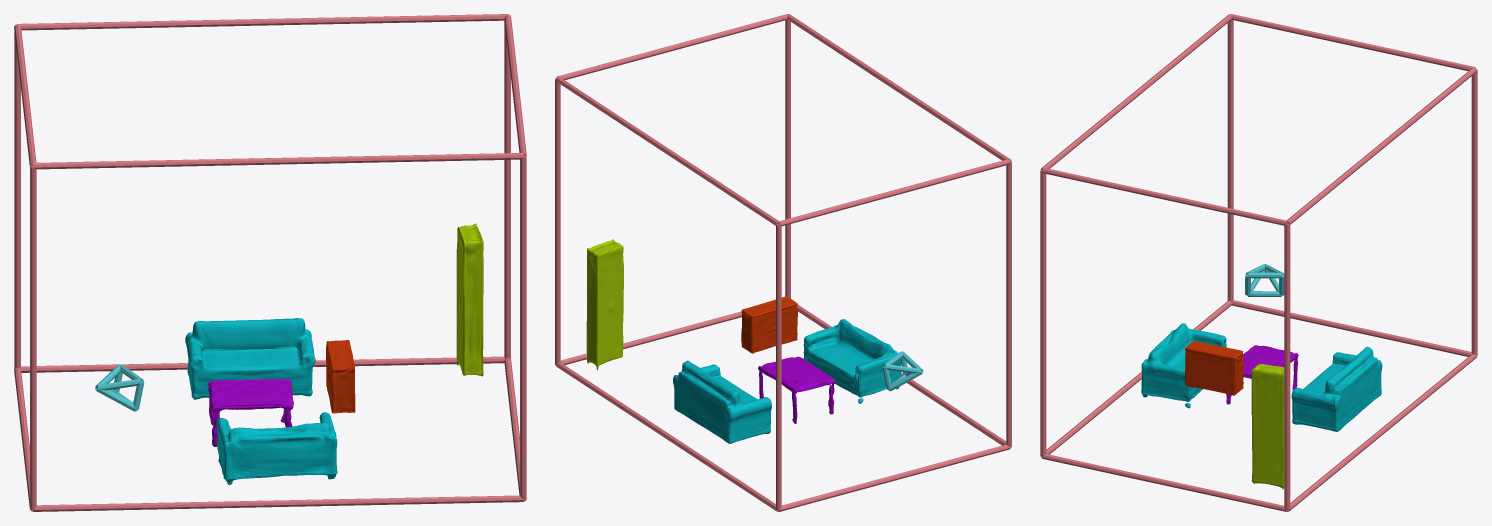
The picture shows the model from 3 angles, left to right: view 1: azimuth 30°, elevation 25°; view 2: azimuth 150°, elevation 25°; view 3: azimuth 270°, elevation 25°; orthographic projection. The views are drawn at different scales.
Parts seen in each view (by area): view 1: world; view 2: world; view 3: world.
Boxes of the visible parts, x1,y1,x2,y2 form: world: (14,14,526,511); world: (555,14,1011,511); world: (1040,14,1477,511).
Bounding box in the file's own units: 8.4 × 5.45 × 7.42.
